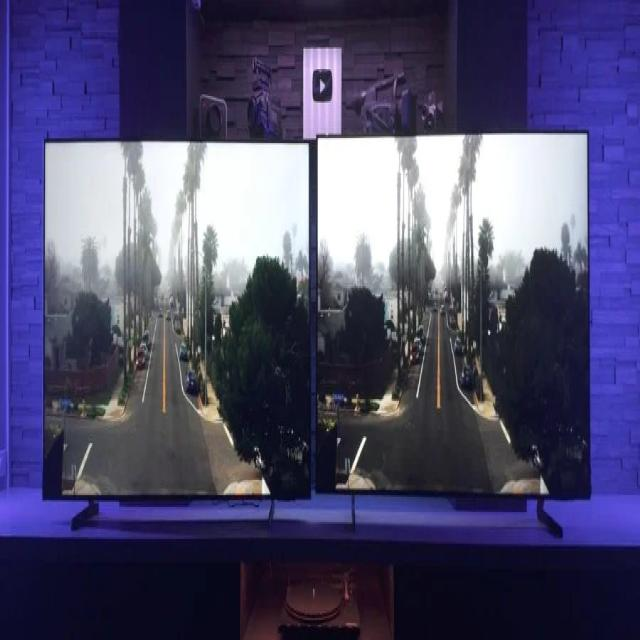electronics: (315, 131, 589, 497), (316, 131, 589, 497), (43, 140, 309, 499), (43, 140, 309, 497), (199, 45, 443, 138), (240, 563, 392, 638), (277, 579, 359, 638), (346, 72, 418, 131), (346, 72, 415, 131), (301, 44, 343, 138), (0, 3, 12, 308), (42, 397, 72, 499), (0, 312, 17, 490), (247, 56, 281, 138), (315, 403, 347, 490), (283, 584, 341, 625), (198, 96, 225, 138), (537, 497, 562, 534), (420, 91, 442, 130), (421, 91, 442, 128), (311, 67, 332, 99), (399, 91, 415, 126), (425, 98, 439, 125), (0, 446, 6, 478), (319, 330, 324, 352), (192, 0, 200, 10), (30, 450, 37, 458), (316, 354, 321, 364), (319, 318, 324, 328), (70, 467, 76, 472), (358, 66, 364, 71), (25, 382, 28, 384), (16, 98, 18, 99)
